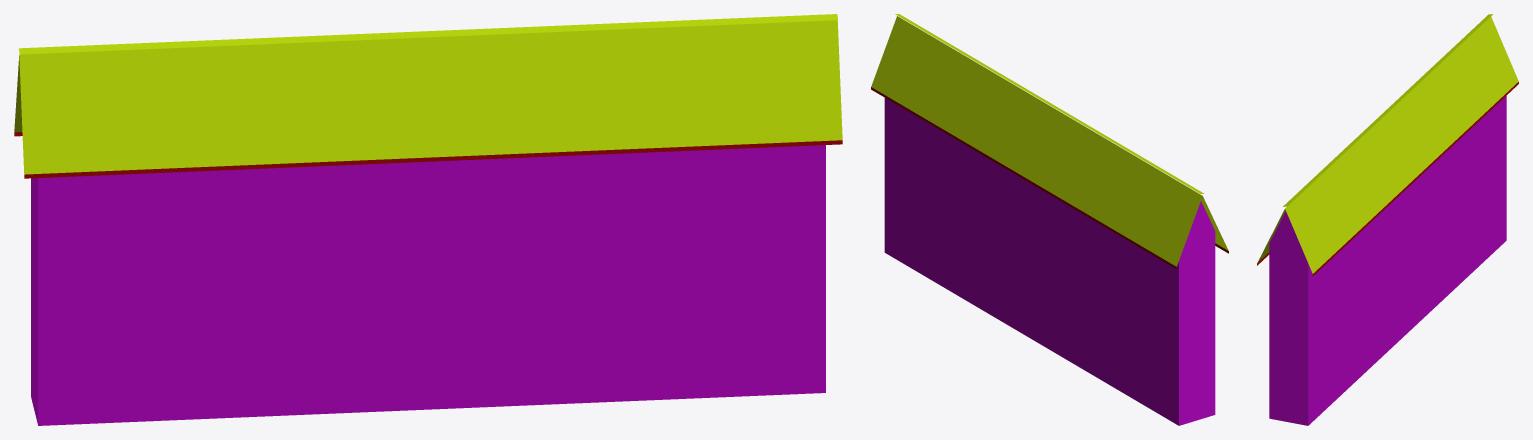
File: rmc_95.glb
3 renders of one model, left to right at view 1: azimuth 30°, elevation 25°; view 2: azimuth 150°, elevation 25°; view 3: azimuth 270°, elevation 25°, orthographic. The views are drawn at different scales.
Visible parts, largest first — view 1: rmc_95; view 2: rmc_95; view 3: rmc_95.
Boxes of the visible parts, <box> form: rmc_95: <box>14,14,842,425</box>; rmc_95: <box>871,14,1228,425</box>; rmc_95: <box>1257,14,1518,425</box>.
Bounding box in the file's own units: 20.77 × 10.48 × 11.3.
